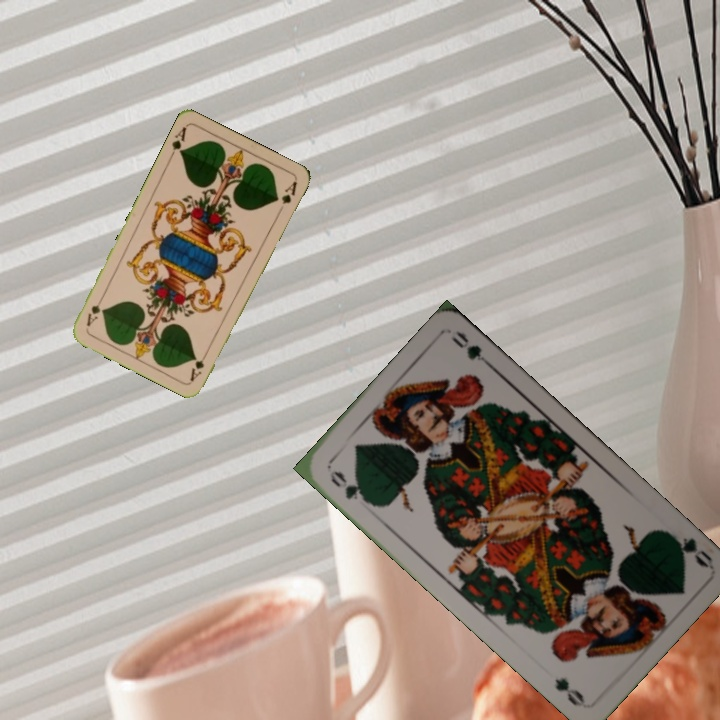GA: (186, 345, 211, 383), (165, 122, 189, 161)
GO: (663, 526, 715, 570), (325, 466, 374, 507)
